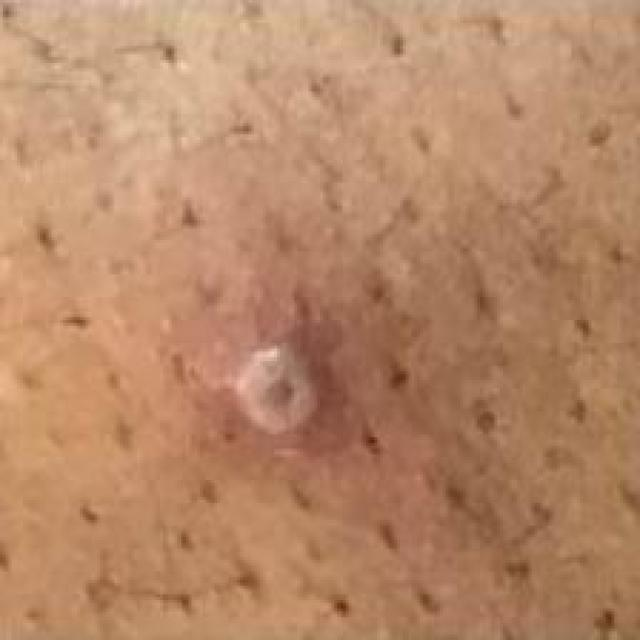monkeypox: (34, 111, 637, 640)
